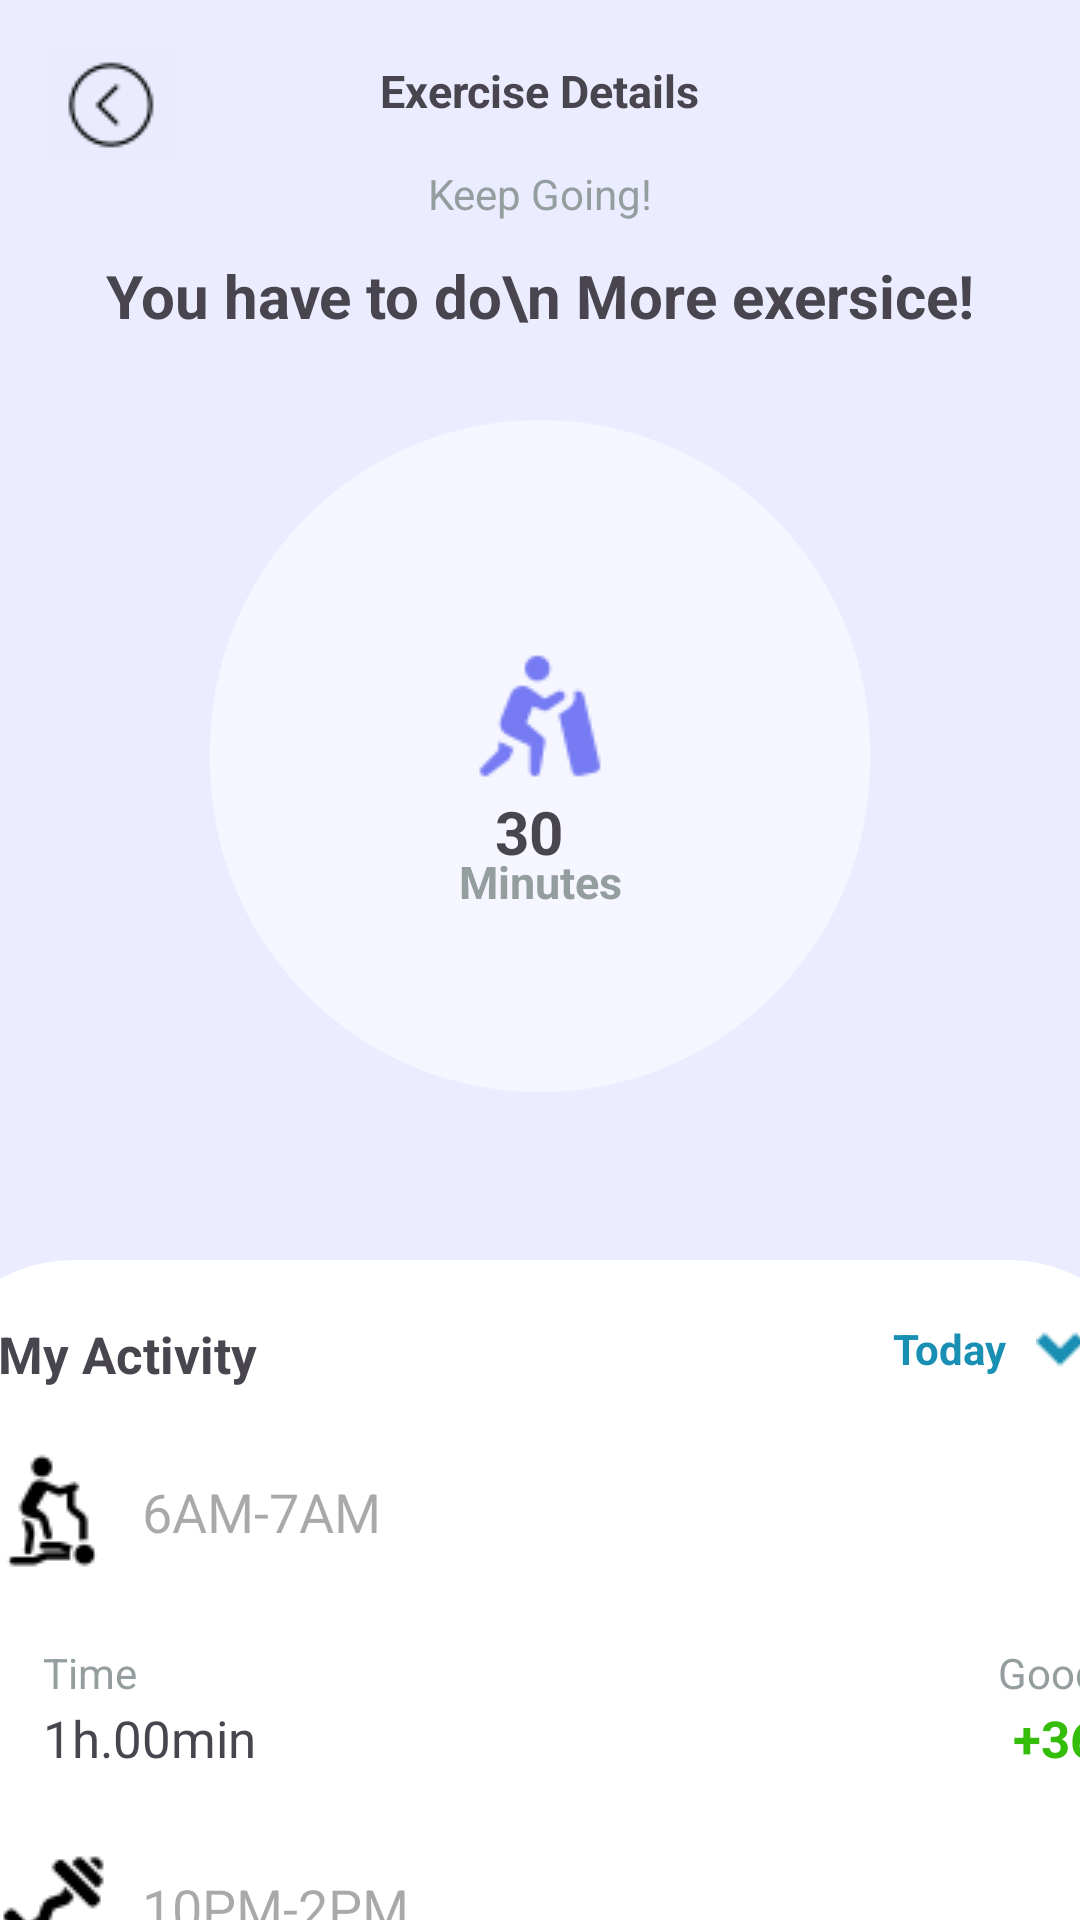

Screen size 1080×1920. Icon name, then its box in pixels as (x1, y1, x2, y2):
Go back: (68, 62, 154, 148)
